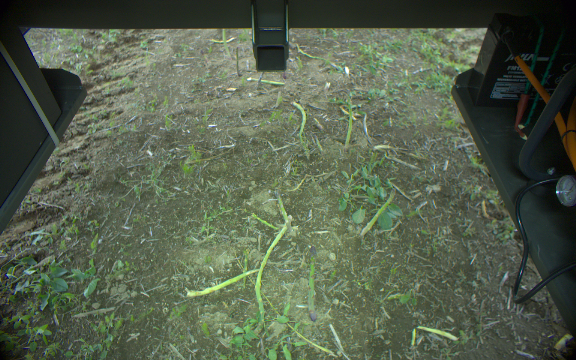aspa: (255, 216, 290, 319), (187, 269, 257, 297), (357, 187, 396, 235), (336, 89, 353, 149), (306, 246, 320, 318), (272, 190, 293, 235), (298, 43, 328, 65), (290, 102, 306, 135), (219, 27, 231, 59), (233, 45, 243, 78), (291, 55, 301, 71), (257, 70, 266, 85), (280, 71, 291, 83)
